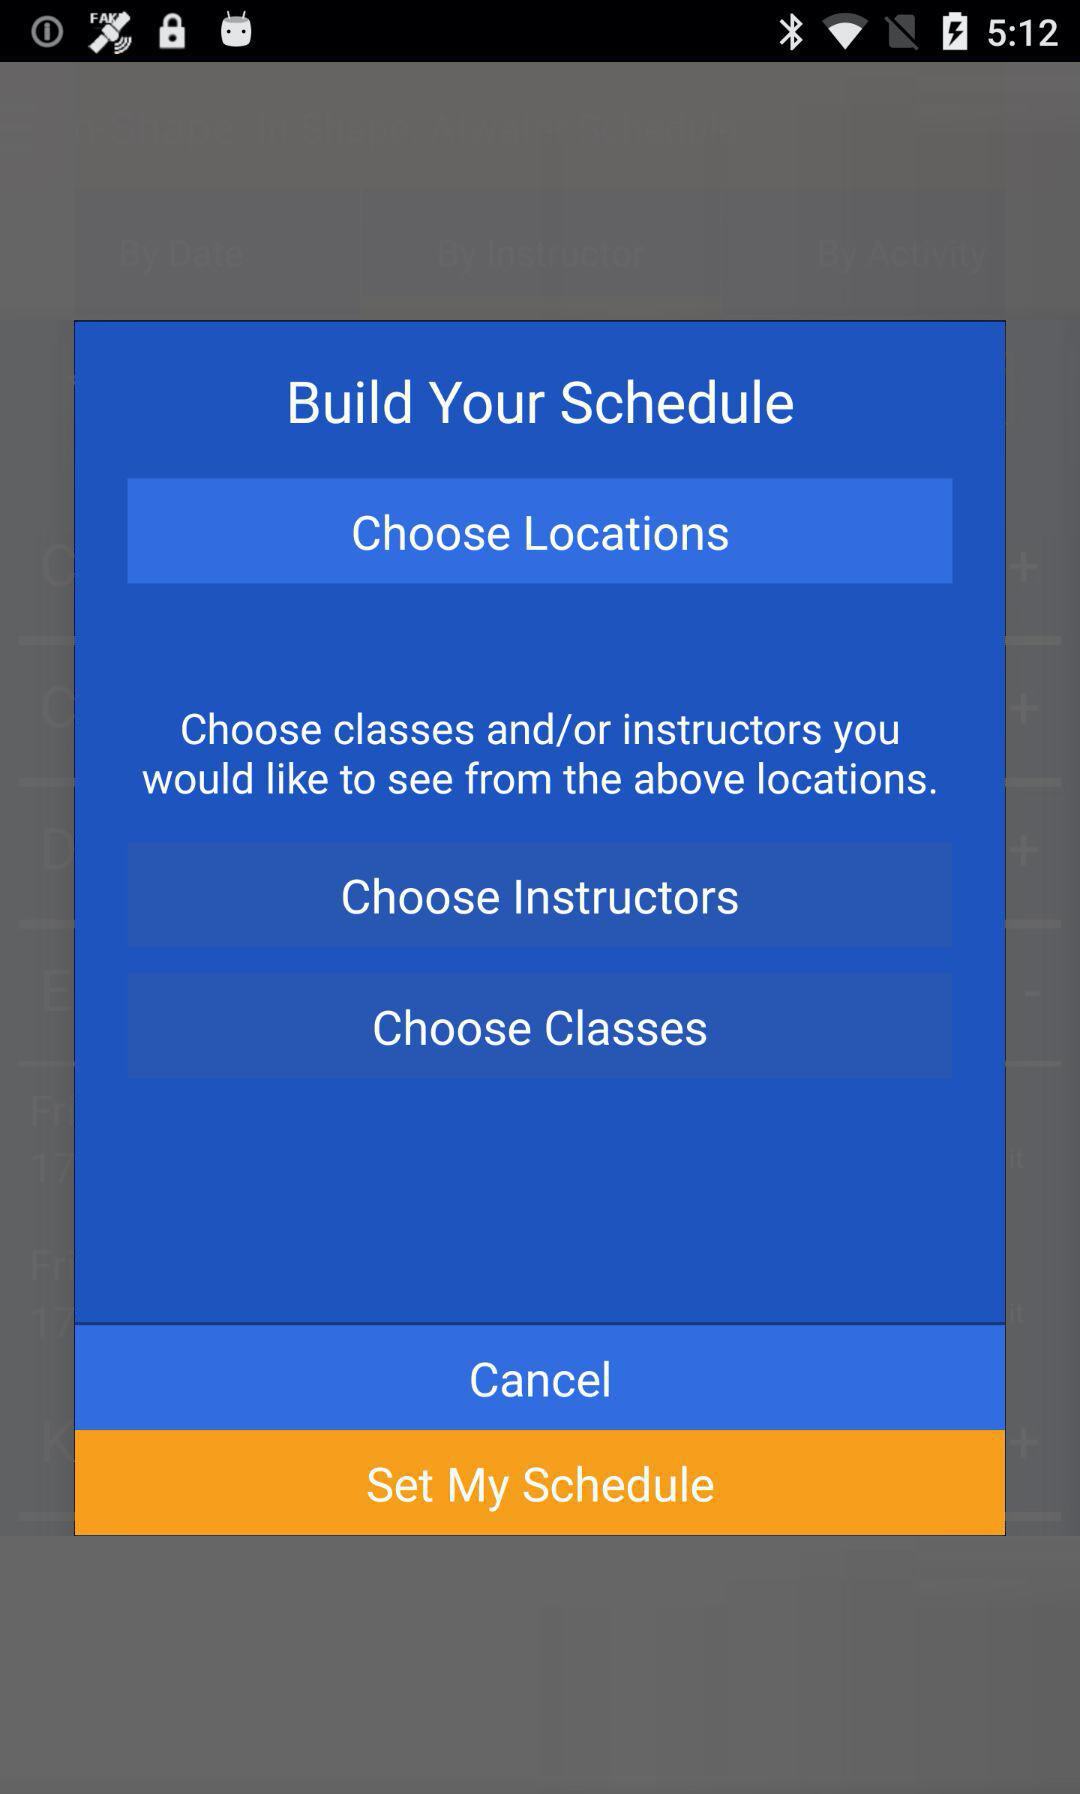Modal: (76, 322, 1004, 1535)
Text: (143, 712, 937, 797), (291, 379, 794, 425)
TextButton: (76, 1324, 1004, 1430), (76, 1430, 1004, 1535), (128, 841, 953, 950), (128, 478, 953, 586), (128, 974, 951, 1080)
UpperTaskBar: (1, 1, 1080, 64)
